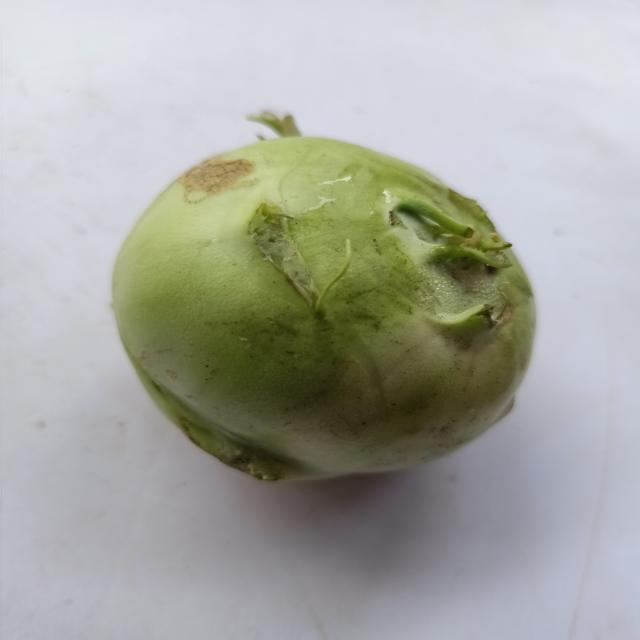Turnip: (69, 93, 570, 507)
